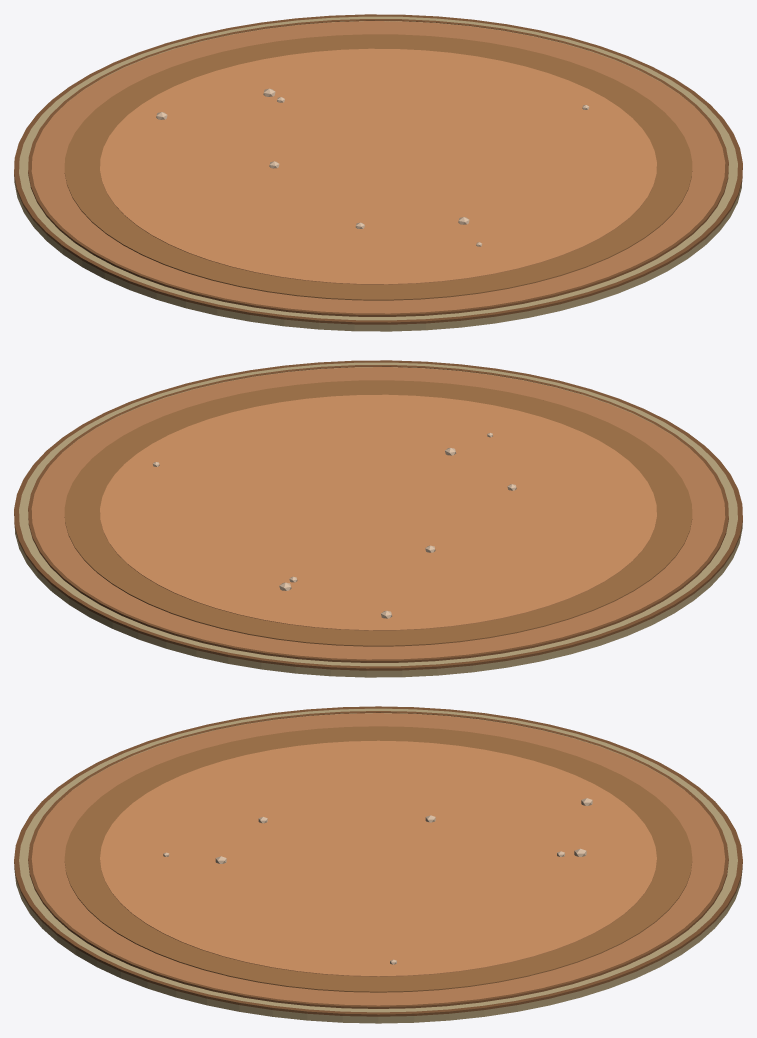
File: goo_jar_foot@garden.fbx
3 renders of one model, top to bottom at view 1: azimuth 30°, elevation 25°; view 2: azimuth 150°, elevation 25°; view 3: azimuth 270°, elevation 25°, orthographic.
Visible parts, largest first — view 1: goo_jar_foot; view 2: goo_jar_foot; view 3: goo_jar_foot.
Part boxes in pixels (x1=…): goo_jar_foot: x1=14, y1=14, x2=742, y2=331; goo_jar_foot: x1=14, y1=360, x2=742, y2=677; goo_jar_foot: x1=14, y1=706, x2=742, y2=1023.
Bounding box in the file's own units: 80.1 × 2.08 × 80.1.
